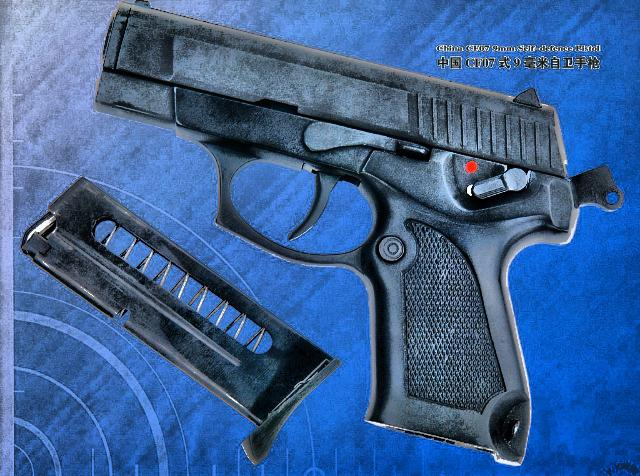pistol: (94, 0, 624, 464)
